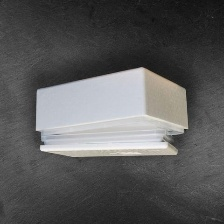foam_box: (25, 64, 194, 163)
